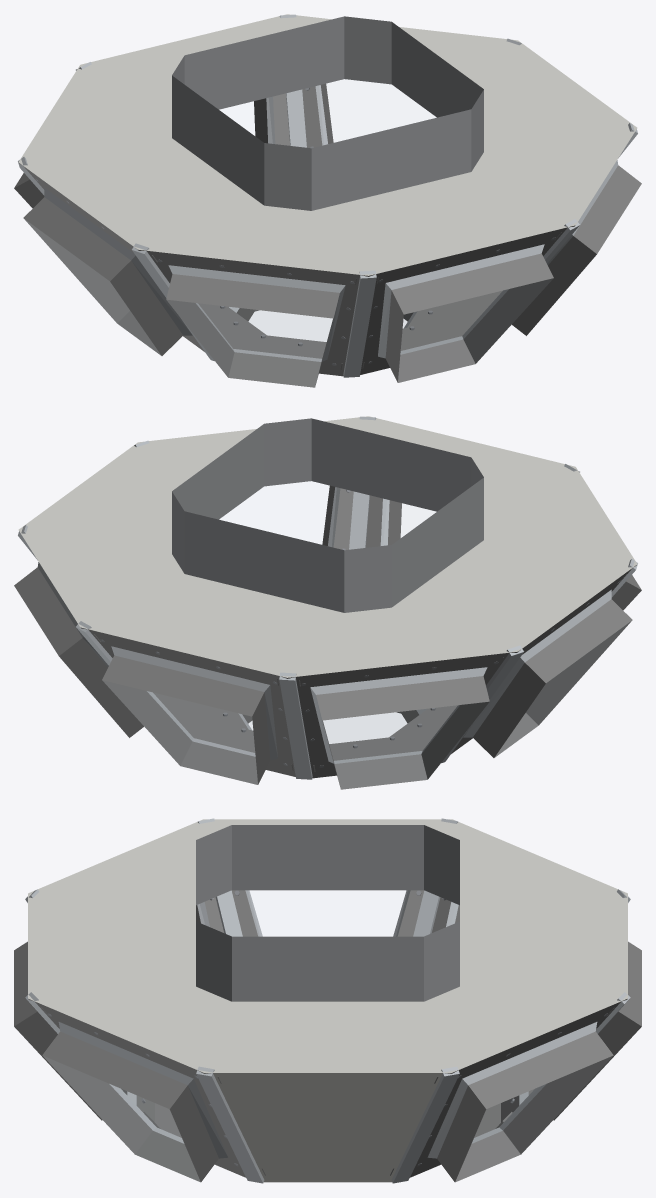
Rendered from SM_Cupula_Faro_Casco.fbx.
The picture shows the model from 3 angles, top to bottom: view 1: azimuth 30°, elevation 25°; view 2: azimuth 150°, elevation 25°; view 3: azimuth 270°, elevation 25°; orthographic projection. The views are drawn at different scales.
Visible parts, largest first — view 1: SM_Cupula_Faro_Casco, SM_Cupula_Vidrios; view 2: SM_Cupula_Faro_Casco, SM_Cupula_Vidrios; view 3: SM_Cupula_Faro_Casco.
Boxes of the visible parts, x1,y1,x2,y2 form: SM_Cupula_Faro_Casco: [14, 14, 641, 387]; SM_Cupula_Vidrios: [248, 310, 407, 341]; SM_Cupula_Faro_Casco: [14, 416, 641, 789]; SM_Cupula_Vidrios: [248, 712, 407, 743]; SM_Cupula_Faro_Casco: [14, 818, 641, 1183].
Bounding box in the file's own units: 2.57 × 1.21 × 2.62.
